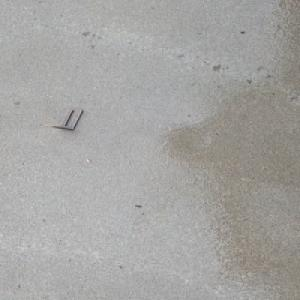MetalPart: (41, 107, 85, 130)
